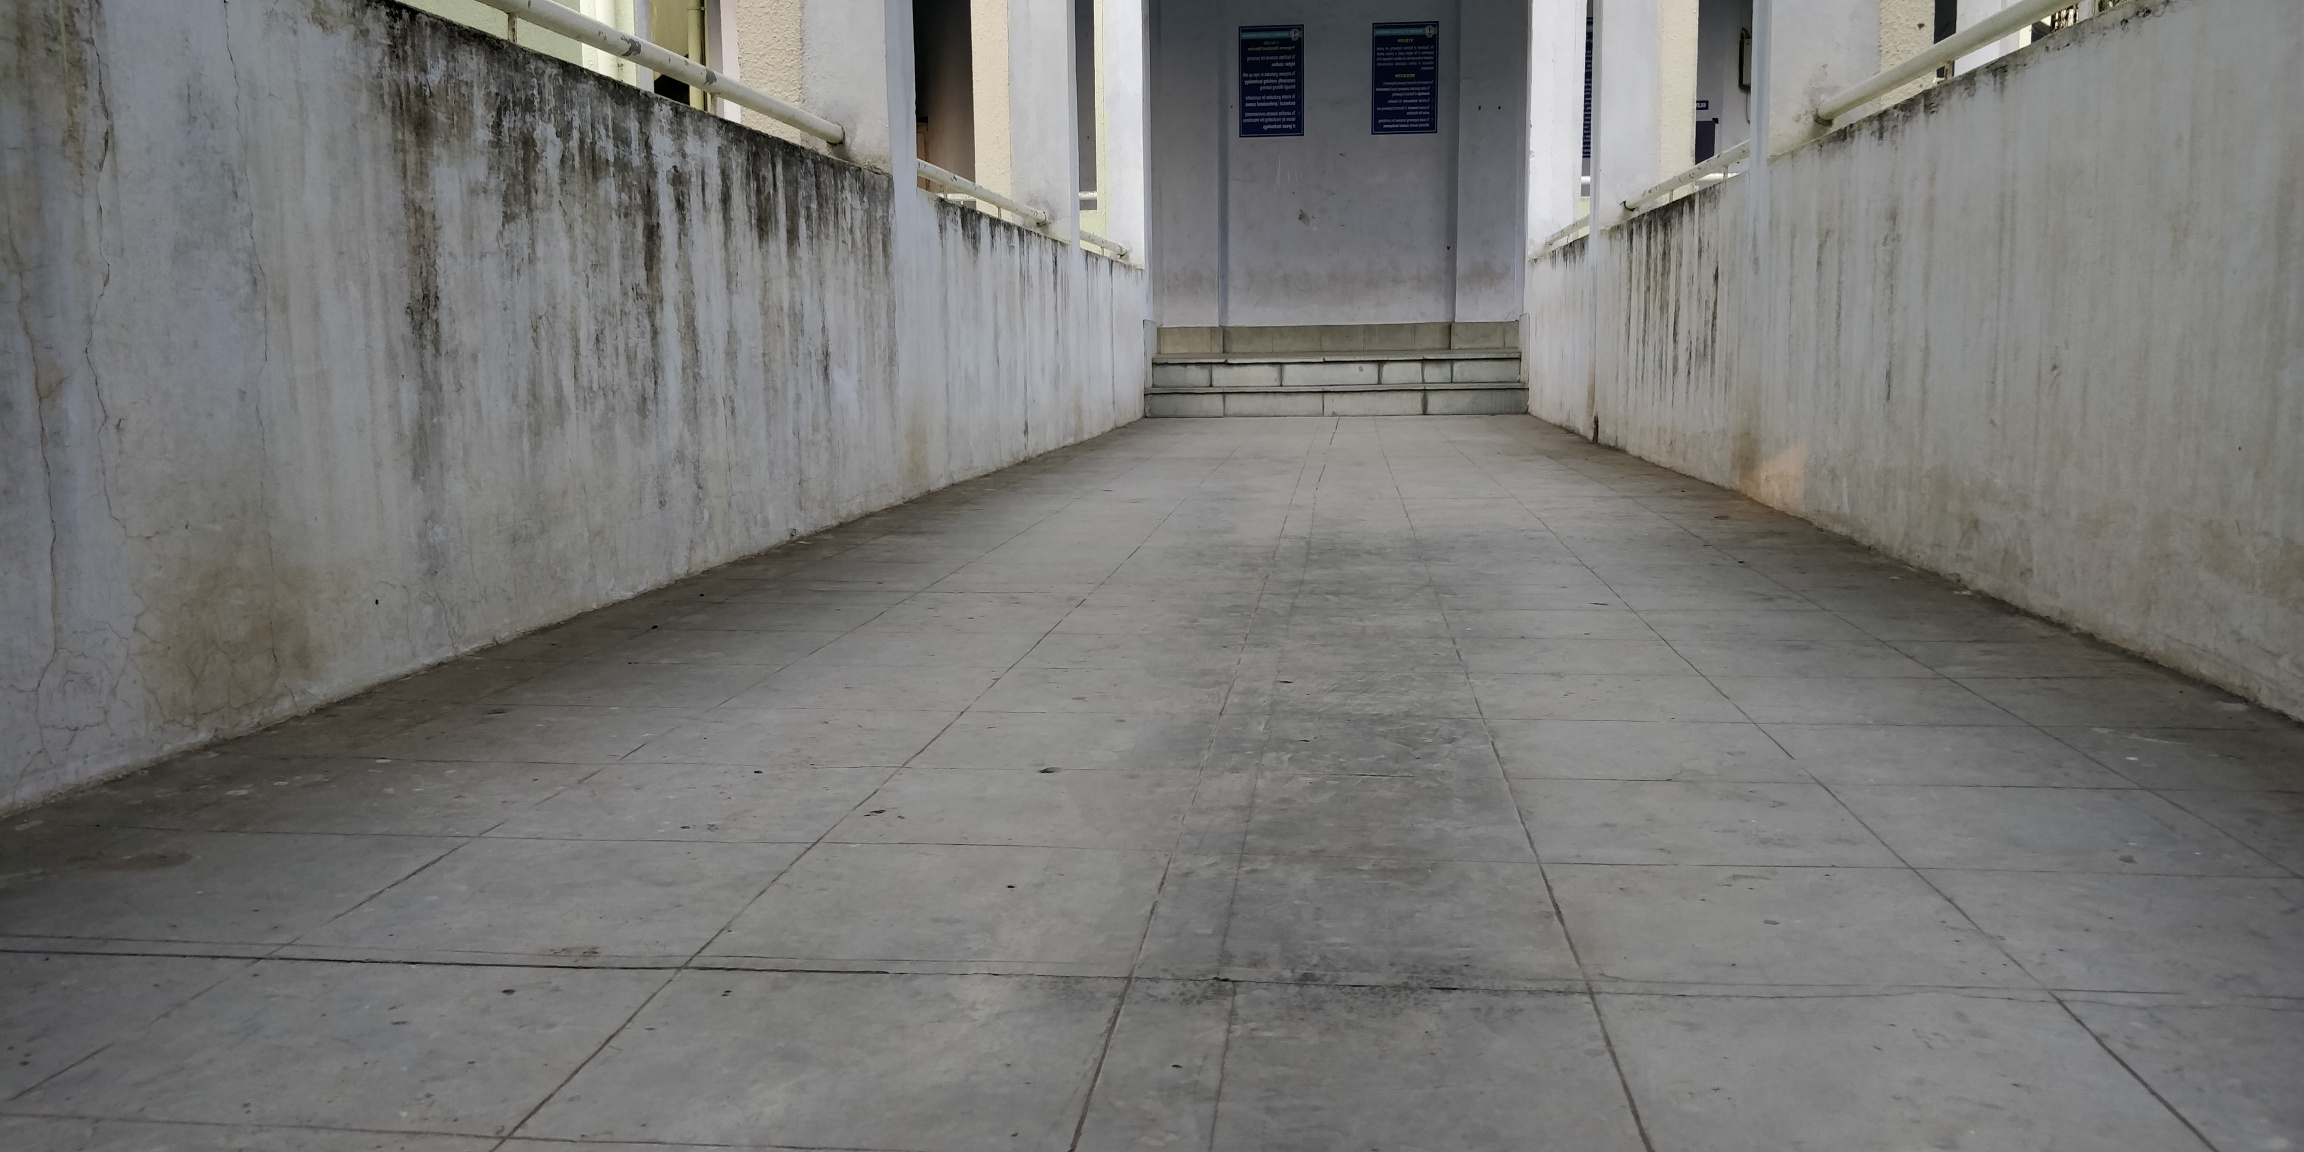stairs_up: (1127, 350, 1531, 428)
